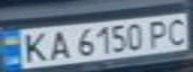0: (124, 20, 148, 52)
1: (93, 24, 112, 55)
5: (109, 22, 130, 54)
6: (72, 25, 96, 57)
A: (42, 27, 72, 61)
C: (163, 15, 193, 46)
K: (15, 29, 51, 64)
P: (145, 17, 175, 48)
